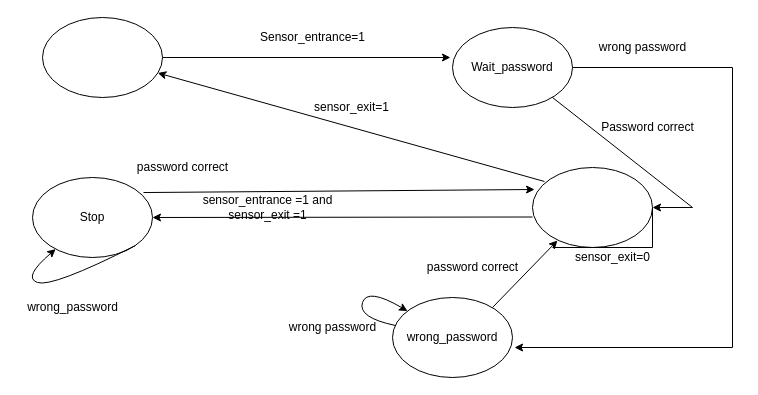
This 758x395 diagram has some shape labels left out. The centre of each missing label's shape, as x and y in pixels:
"IDLE" belongs at [102,57].
"Right_password" belongs at [592,207].
